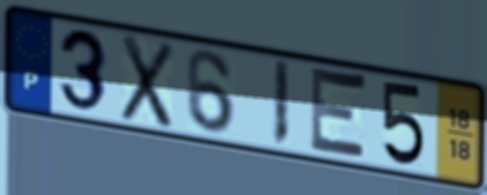3: (57, 24, 112, 116)
5: (380, 80, 427, 168)
6: (184, 47, 240, 139)
E: (307, 62, 370, 167)
I: (269, 57, 292, 151)
X: (118, 30, 177, 133)
